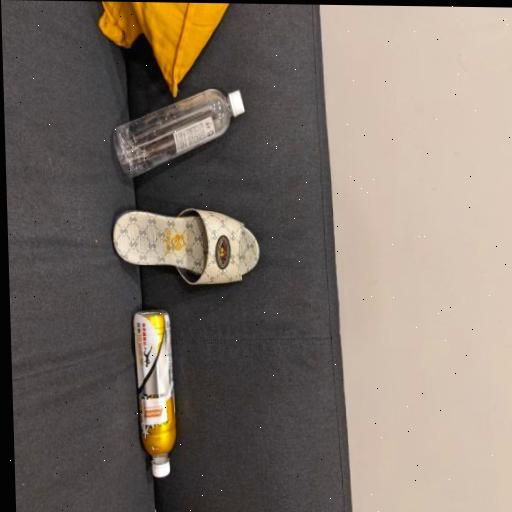ba: (98, 66, 259, 195), (128, 298, 188, 491)
